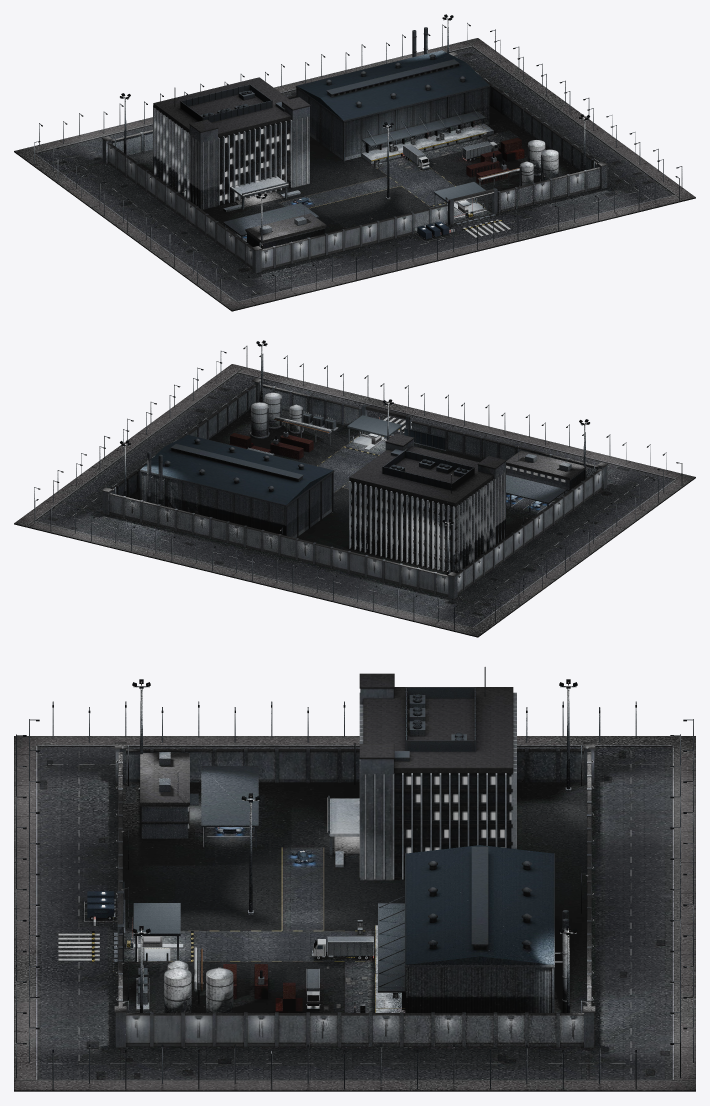
Rendered from amc_facility.glb.
3 views of the same model, one above another, from view 1: azimuth 30°, elevation 25°; view 2: azimuth 150°, elevation 25°; view 3: azimuth 270°, elevation 25° (orthographic). The views are drawn at different scales.
Visible parts, largest first — view 1: site_ground, props_works, walls_ext, props_wall, props_lights, props_post, props_gate, props_roof, props_vehicles; view 2: site_ground, props_wall, props_works, walls_ext, props_lights, props_post, props_gate, props_roof; view 3: site_ground, props_works, props_wall, walls_ext, props_post, props_lights, props_gate, props_vehicles, props_roof.
Boxes of the visible parts, x1,y1,x2,y2 form: site_ground: [14, 38, 695, 311]; props_works: [223, 27, 558, 211]; walls_ext: [153, 77, 310, 209]; props_wall: [102, 52, 607, 273]; props_lights: [34, 14, 682, 300]; props_post: [223, 203, 326, 248]; props_gate: [430, 182, 513, 236]; props_roof: [174, 84, 285, 122]; props_vehicles: [244, 141, 499, 239]; site_ground: [14, 364, 695, 637]; props_wall: [102, 378, 607, 599]; props_works: [140, 392, 338, 538]; walls_ext: [349, 433, 506, 572]; props_lights: [34, 340, 682, 629]; props_post: [506, 446, 585, 512]; props_gate: [343, 404, 446, 455]; props_roof: [382, 448, 474, 493]; site_ground: [14, 736, 695, 1091]; props_works: [136, 845, 569, 1012]; props_wall: [114, 742, 595, 1047]; walls_ext: [327, 673, 516, 880]; props_post: [140, 752, 258, 847]; props_lights: [16, 679, 693, 1089]; props_gate: [92, 881, 193, 975]; props_vehicles: [87, 827, 373, 1010]; props_roof: [394, 666, 485, 761].
Size of the model in its own units: 161 by 30.37 by 131.
Materials: 9 (9 with a texture image).
